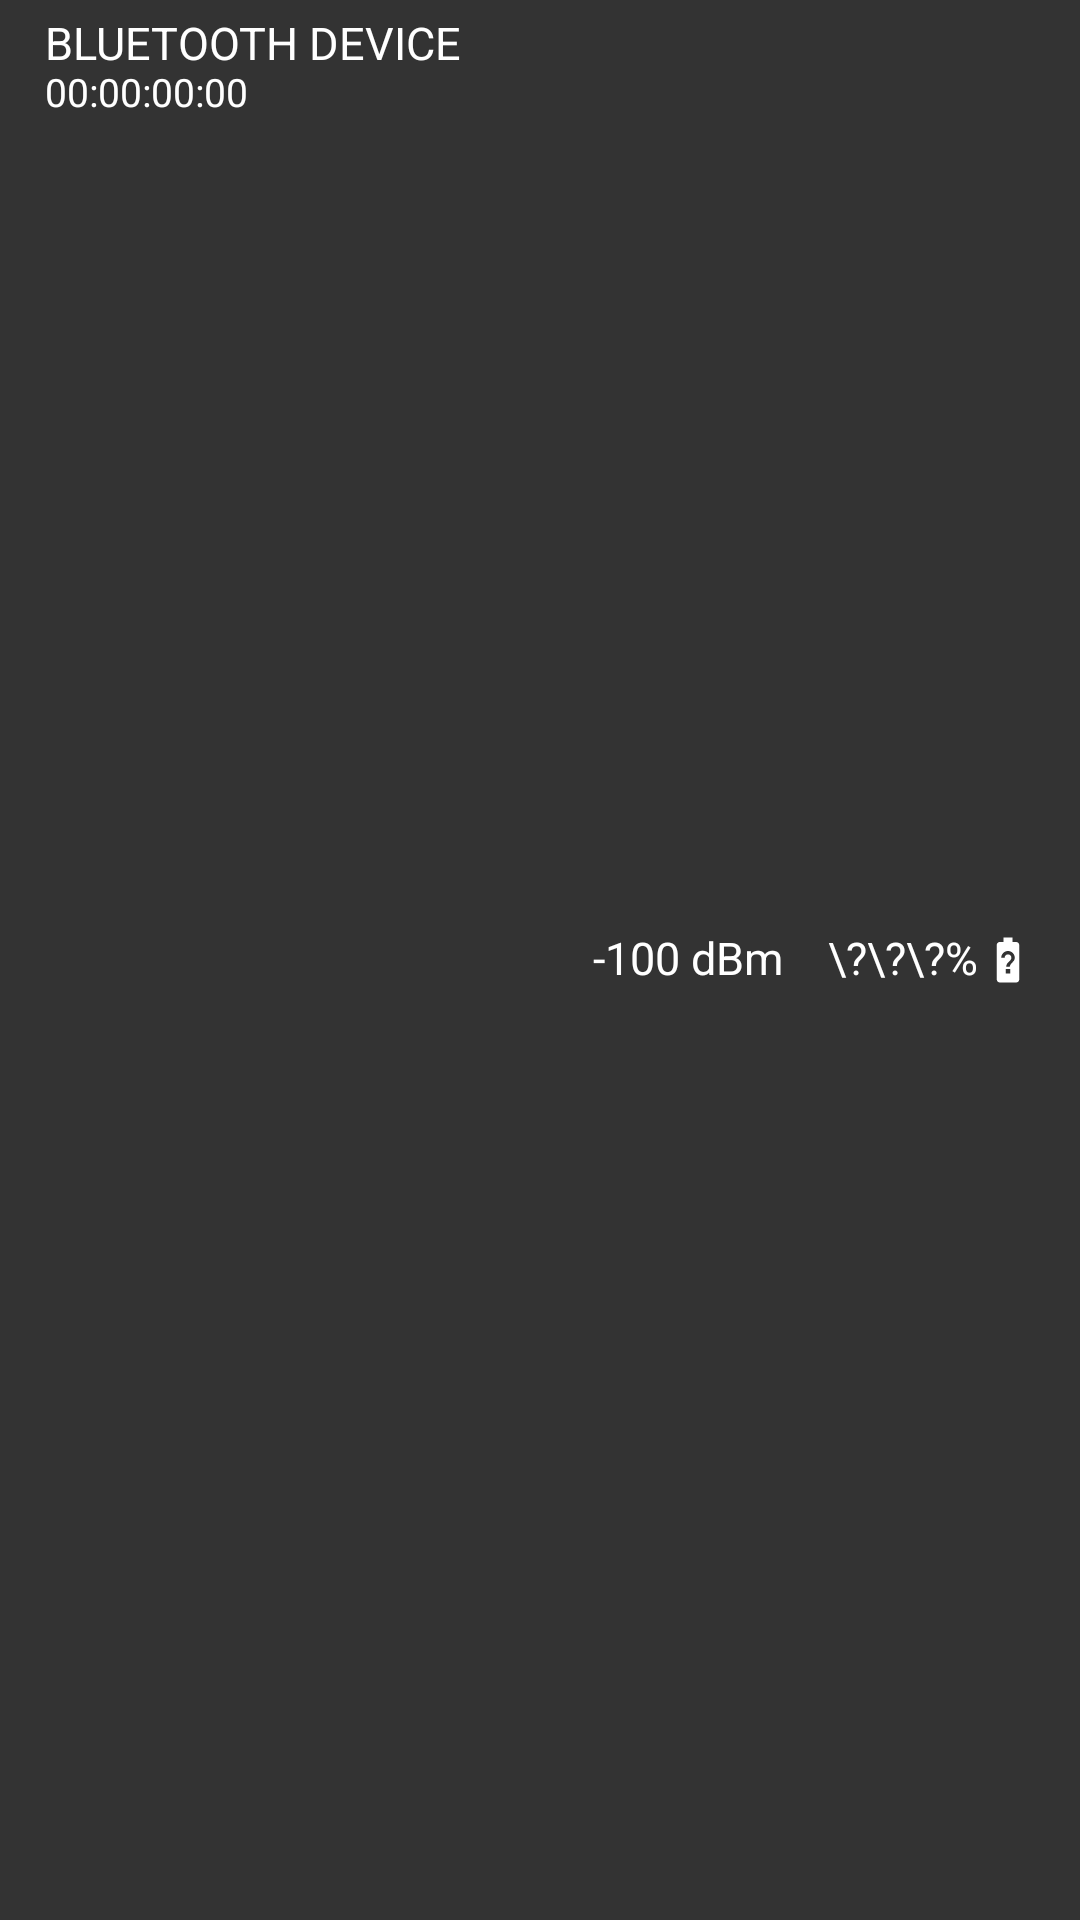

Screen size 1080 × 1920. Icon name, then its center in pixels as point (x, y):
battery unknown: point (1008, 960)
